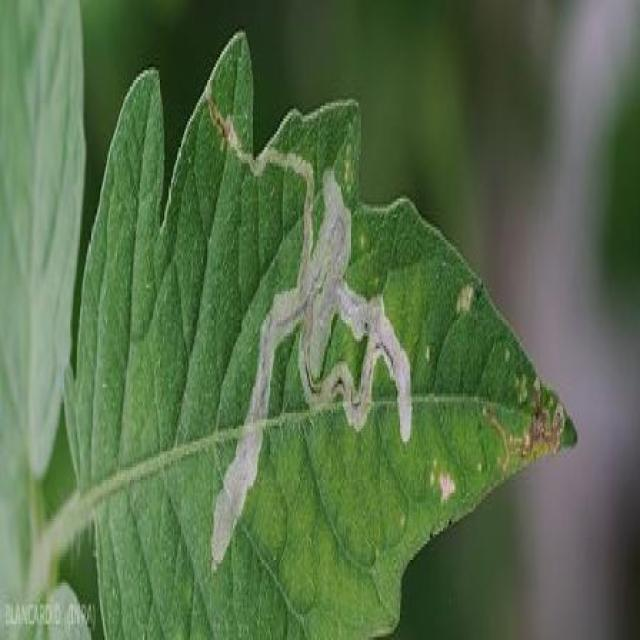Leaf Miner: (68, 30, 581, 640)
